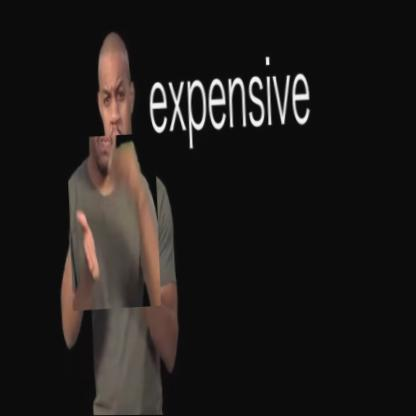Expensive: (64, 133, 163, 311)
